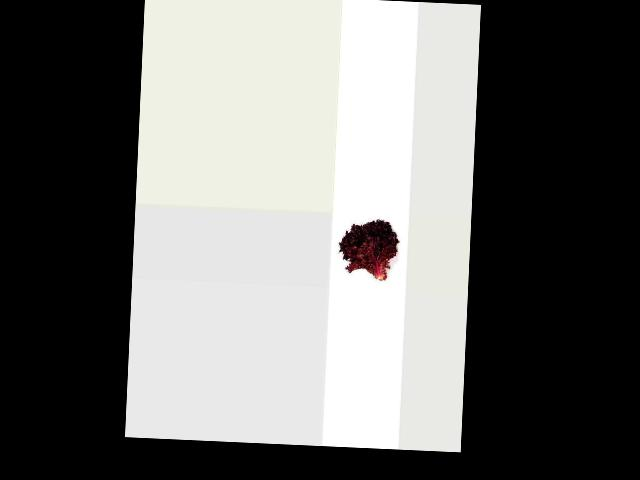lettuce: (335, 214, 397, 287)
